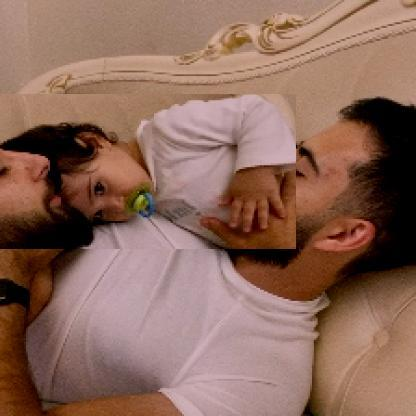child: (1, 95, 298, 251)
